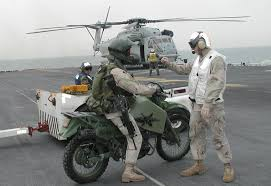motorcycle: (62, 72, 198, 183)
